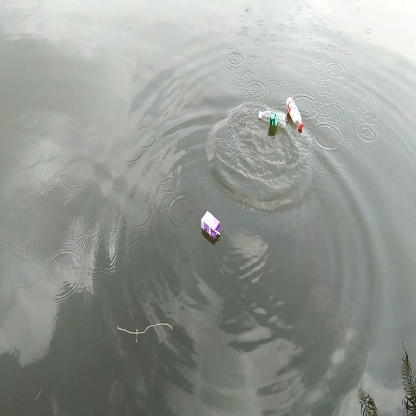bottle: (285, 95, 309, 135), (255, 107, 288, 130)
milk-box: (196, 210, 229, 242)
